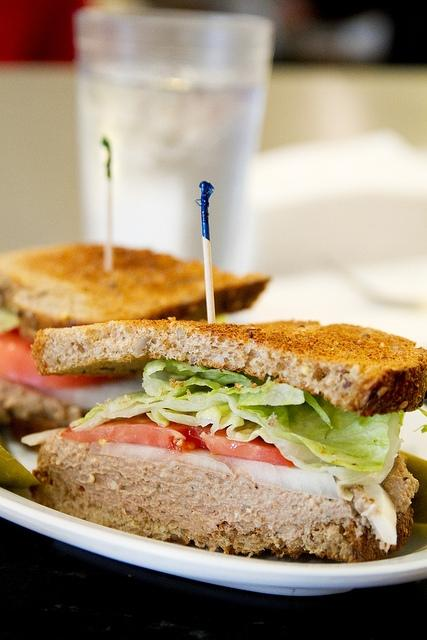lettuce: (69, 359, 406, 501), (0, 308, 19, 334)
tomato: (60, 413, 295, 468), (1, 326, 122, 389)
